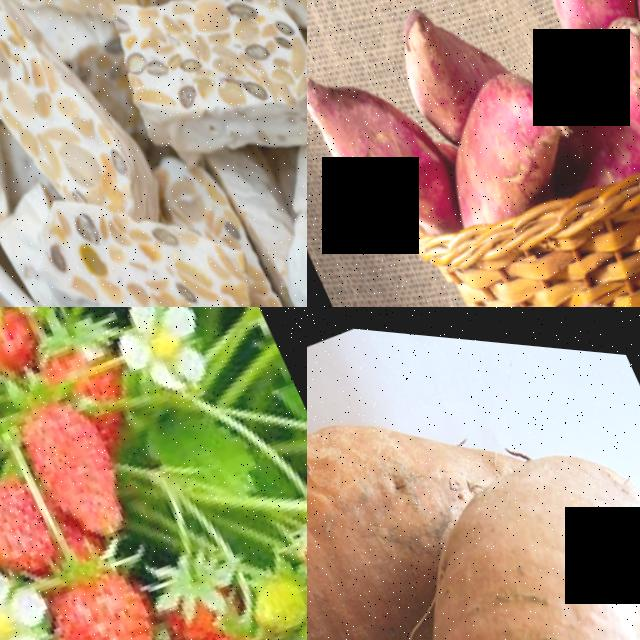strawberry: (10, 374, 147, 549), (45, 553, 179, 640), (0, 460, 63, 578), (284, 482, 307, 640)
sweet potato: (327, 394, 640, 640), (307, 391, 448, 640), (307, 31, 457, 242), (450, 47, 594, 217), (541, 0, 640, 179), (378, 0, 507, 111)
tempeh: (15, 126, 275, 307), (94, 0, 307, 189), (0, 0, 139, 225), (9, 0, 225, 37), (263, 137, 307, 307)
